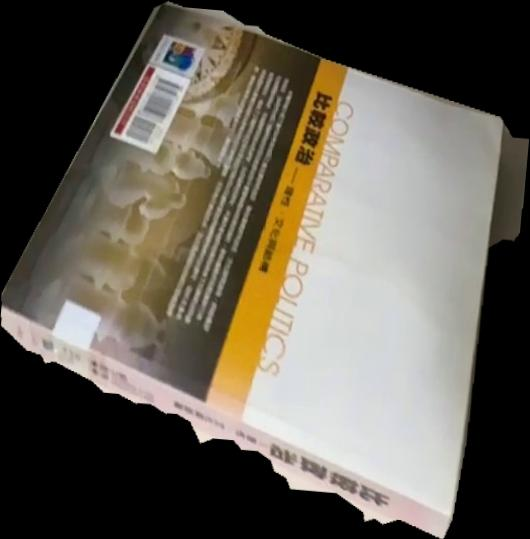flat: (1, 1, 530, 539)
